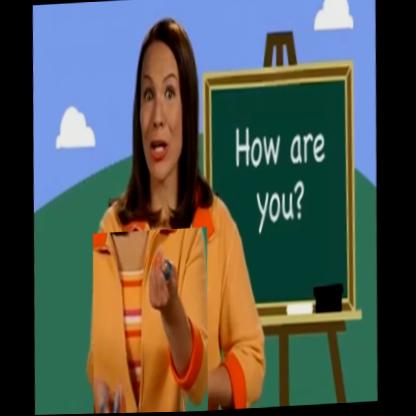HowAreYou: (89, 227, 215, 414)
